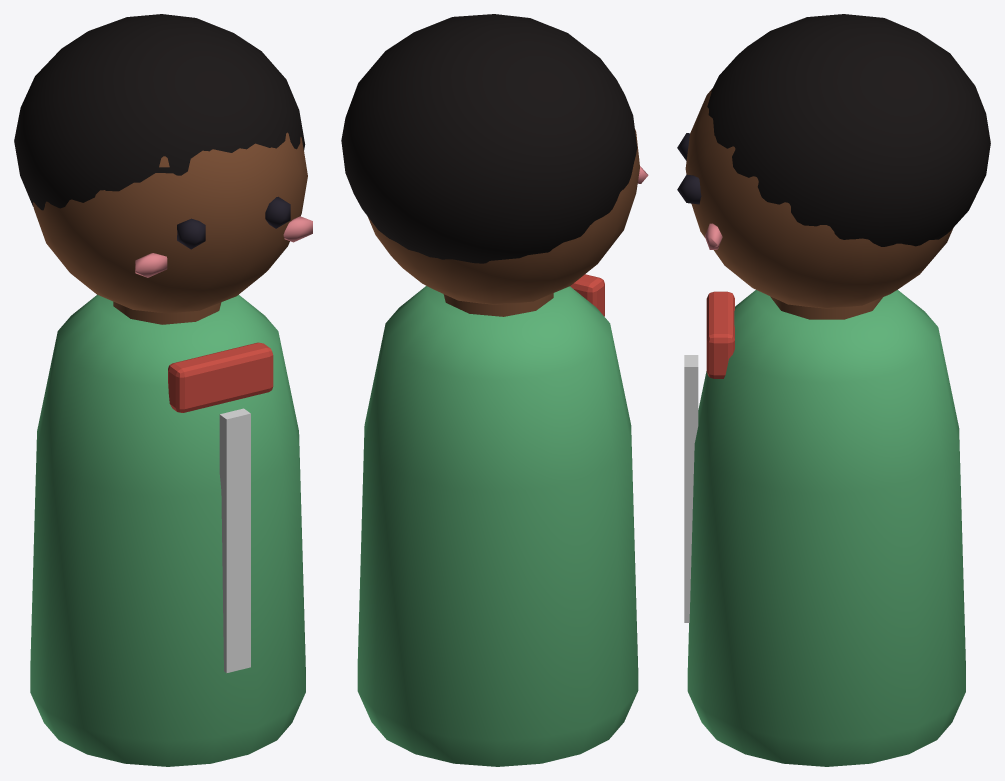
File: person_guest_d.fbx
3 renders of one model, left to right at view 1: azimuth 30°, elevation 25°; view 2: azimuth 150°, elevation 25°; view 3: azimuth 270°, elevation 25°, orthographic.
Parts seen in each view (by area): view 1: Body, Head; view 2: Body, Head; view 3: Body, Head.
Part boxes in pixels (x1,y1,x2,y2): Body: [30, 294, 305, 766]; Head: [14, 14, 312, 313]; Body: [357, 274, 638, 766]; Head: [341, 14, 648, 304]; Body: [684, 289, 965, 766]; Head: [677, 14, 990, 308].
Bounding box in the file's own units: 0.208 × 0.5394 × 0.222.
